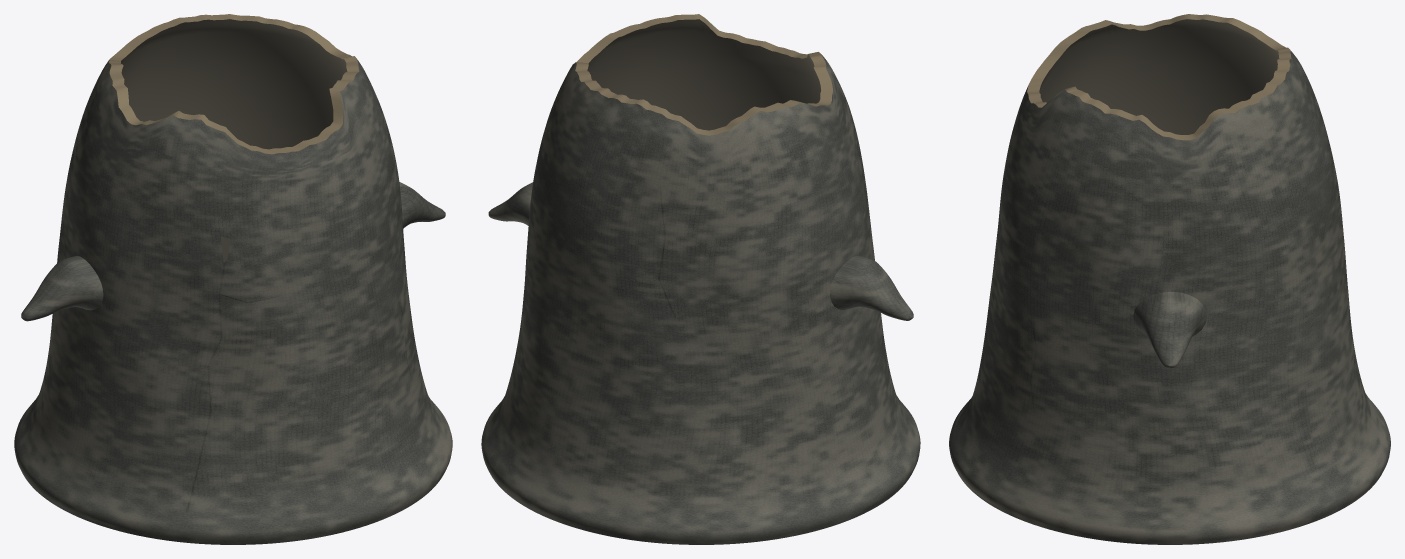
Rendered from siru-v4.glb.
3 renders of one model, left to right at view 1: azimuth 30°, elevation 25°; view 2: azimuth 150°, elevation 25°; view 3: azimuth 270°, elevation 25°, orthographic.
Visible parts, largest first — view 1: Impressed tapering body, Open inner shell, Broken removed-bottom edge, Left ox-horn lug, Right ox-horn lug; view 2: Impressed tapering body, Open inner shell, Broken removed-bottom edge, Left ox-horn lug, Right ox-horn lug; view 3: Impressed tapering body, Open inner shell, Broken removed-bottom edge, Right ox-horn lug.
Part boxes in pixels (box(x1,y1,x2,y2)): Impressed tapering body: box(14, 57, 452, 544); Open inner shell: box(121, 19, 347, 262); Broken removed-bottom edge: box(109, 14, 359, 154); Left ox-horn lug: box(21, 255, 103, 321); Right ox-horn lug: box(399, 182, 445, 228); Impressed tapering body: box(481, 55, 920, 544); Open inner shell: box(587, 19, 821, 130); Broken removed-bottom edge: box(575, 14, 832, 135); Left ox-horn lug: box(830, 255, 913, 320); Right ox-horn lug: box(488, 182, 532, 225); Impressed tapering body: box(949, 49, 1390, 544); Open inner shell: box(1039, 19, 1279, 134); Broken removed-bottom edge: box(1027, 14, 1291, 140); Right ox-horn lug: box(1133, 291, 1206, 368).
Bounding box in the file's own units: 0.997 × 0.8798 × 0.8932.
Materials: 3 (1 with a texture image).
